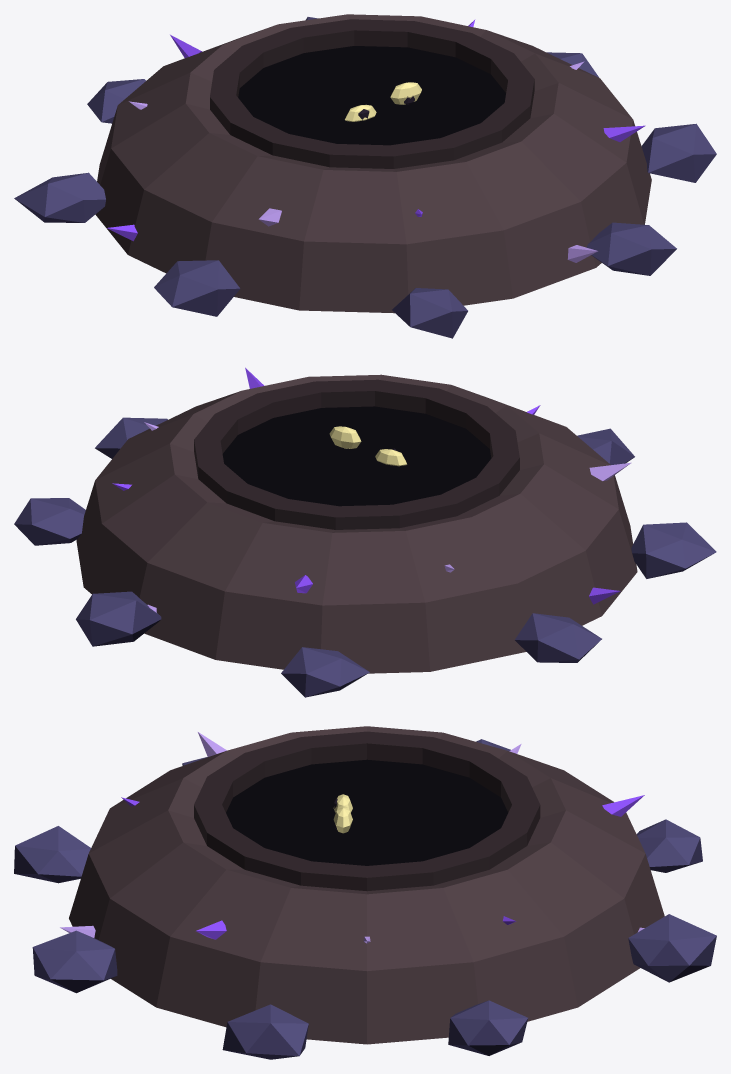
The model's file is Mine_PestBurrow_Floor.fbx.
The picture shows the model from 3 angles, top to bottom: view 1: azimuth 30°, elevation 25°; view 2: azimuth 150°, elevation 25°; view 3: azimuth 270°, elevation 25°; orthographic projection. The views are drawn at different scales.
Visible parts, largest first — view 1: Mine_PestBurrow_Floor_Body, Mine_PestBurrow_Floor_Eyes; view 2: Mine_PestBurrow_Floor_Body, Mine_PestBurrow_Floor_Eyes; view 3: Mine_PestBurrow_Floor_Body, Mine_PestBurrow_Floor_Eyes.
Part boxes in pixels (x1,y1,x2,y2): Mine_PestBurrow_Floor_Body: (14,14,716,338); Mine_PestBurrow_Floor_Eyes: (345,82,421,121); Mine_PestBurrow_Floor_Body: (14,367,716,697); Mine_PestBurrow_Floor_Eyes: (329,426,406,466); Mine_PestBurrow_Floor_Body: (14,726,716,1059); Mine_PestBurrow_Floor_Eyes: (333,794,352,833).
Size of the model in its own units: 1.79 by 0.3387 by 1.77.
